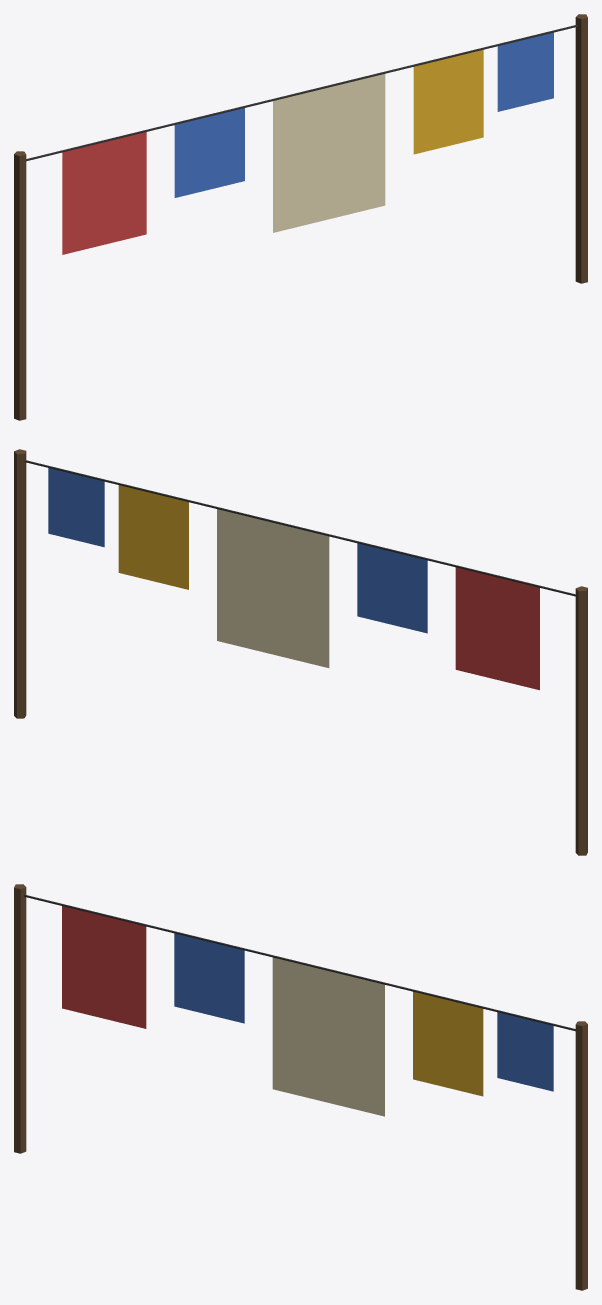
File: varal.glb
3 renders of one model, top to bottom at view 1: azimuth 30°, elevation 25°; view 2: azimuth 150°, elevation 25°; view 3: azimuth 330°, elevation 25°, orthographic.
Parts seen in each view (by area): view 1: varal; view 2: varal; view 3: varal.
Boxes of the visible parts, x1,y1,x2,y2 form: varal: [14, 14, 587, 420]; varal: [14, 449, 587, 855]; varal: [14, 884, 587, 1290].
Bounding box in the file's own units: 4.08 × 1.8 × 0.0724.
